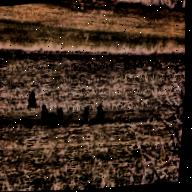boar: (95, 97, 109, 126), (26, 84, 40, 112), (80, 101, 91, 128), (39, 100, 50, 124), (46, 108, 57, 130), (55, 102, 65, 125)
